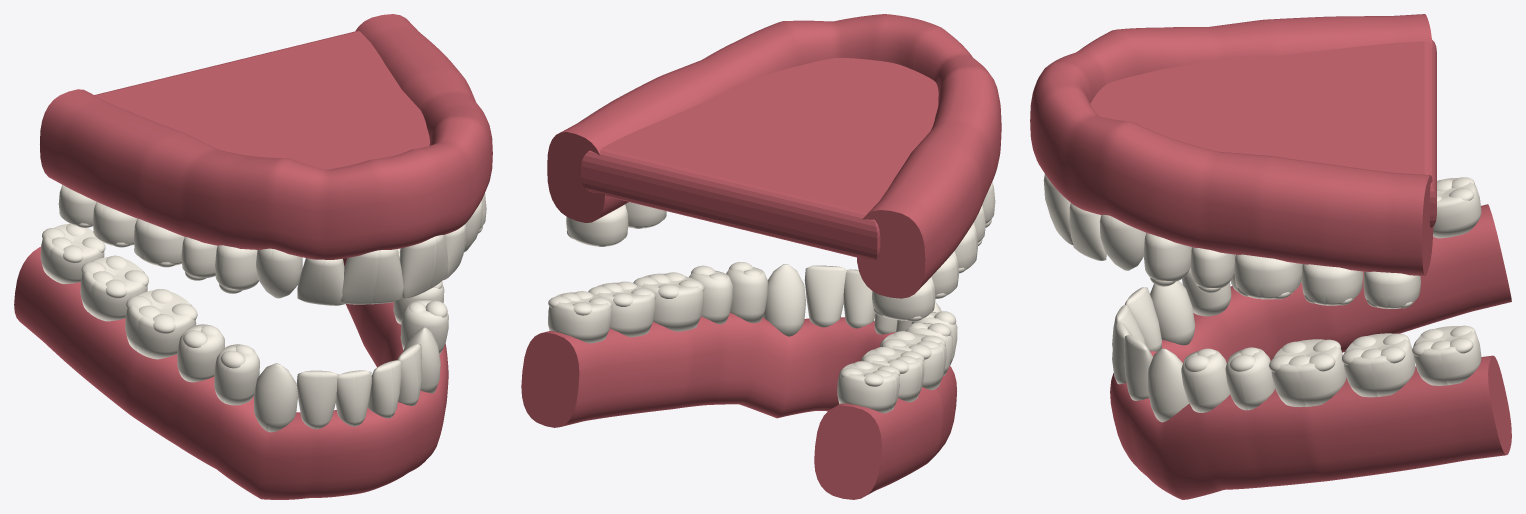
File: human-jaw.glb
3 renders of one model, left to right at view 1: azimuth 30°, elevation 25°; view 2: azimuth 150°, elevation 25°; view 3: azimuth 270°, elevation 25°, orthographic. The views are drawn at different scales.
Parts seen in each view (by area): view 1: upper_gingiva, lower_gingiva, palatal_mucosa, tooth_11_central_incisor_crown, tooth_46_first_molar_crown, tooth_43_canine_crown, tooth_21_central_incisor_crown, tooth_47_second_molar_crown, tooth_42_lateral_incisor_crown, tooth_12_lateral_incisor_crown, tooth_44_first_premolar_crown, tooth_48_third_molar_crown (+17 smaller); view 2: palatal_mucosa, lower_gingiva, upper_gingiva, tooth_33_canine_crown, tooth_32_lateral_incisor_crown, tooth_38_third_molar_crown, tooth_48_third_molar_crown, tooth_36_first_molar_crown, tooth_37_second_molar_crown, tooth_34_first_premolar_crown, tooth_28_third_molar_crown, tooth_18_third_molar_crown (+13 smaller); view 3: upper_gingiva, lower_gingiva, palatal_mucosa, tooth_36_first_molar_crown, tooth_37_second_molar_crown, tooth_38_third_molar_crown, tooth_26_first_molar_crown, tooth_33_canine_crown, tooth_43_canine_crown, tooth_27_second_molar_crown, tooth_34_first_premolar_crown, tooth_35_second_premolar_crown (+16 smaller).
Part boxes in pixels (x1,y1,x2,y2): upper_gingiva: (40,14,492,259); lower_gingiva: (14,247,448,499); palatal_mucosa: (94,31,429,169); tooth_11_central_incisor_crown: (341,249,403,304); tooth_46_first_molar_crown: (125,290,196,359); tooth_43_canine_crown: (254,363,297,432); tooth_21_central_incisor_crown: (399,235,448,298); tooth_47_second_molar_crown: (80,257,147,321); tooth_42_lateral_incisor_crown: (296,370,338,429); tooth_12_lateral_incisor_crown: (297,258,345,305); tooth_44_first_premolar_crown: (214,344,259,405); tooth_48_third_molar_crown: (40,224,104,283); palatal_mucosa: (581,58,938,261); lower_gingiva: (521,313,956,499); upper_gingiva: (547,14,1001,298); tooth_33_canine_crown: (762,264,805,336); tooth_32_lateral_incisor_crown: (804,265,847,327); tooth_38_third_molar_crown: (548,292,611,343); tooth_48_third_molar_crown: (837,363,899,413); tooth_36_first_molar_crown: (642,273,703,331); tooth_37_second_molar_crown: (597,282,655,337); tooth_34_first_premolar_crown: (726,267,767,323); tooth_28_third_molar_crown: (566,204,628,246); tooth_18_third_molar_crown: (872,277,935,320); upper_gingiva: (1030,14,1433,276); lower_gingiva: (1110,204,1511,499); palatal_mucosa: (1090,40,1436,227); tooth_36_first_molar_crown: (1271,339,1346,407); tooth_37_second_molar_crown: (1344,333,1415,397); tooth_38_third_molar_crown: (1413,326,1481,385); tooth_26_first_molar_crown: (1234,254,1302,299); tooth_33_canine_crown: (1147,348,1189,422); tooth_43_canine_crown: (1150,280,1195,345); tooth_27_second_molar_crown: (1301,264,1363,305); tooth_34_first_premolar_crown: (1181,350,1230,412); tooth_35_second_premolar_crown: (1225,348,1274,410).
Size of the model in its own units: 0.0684 by 0.0634 by 0.072.
